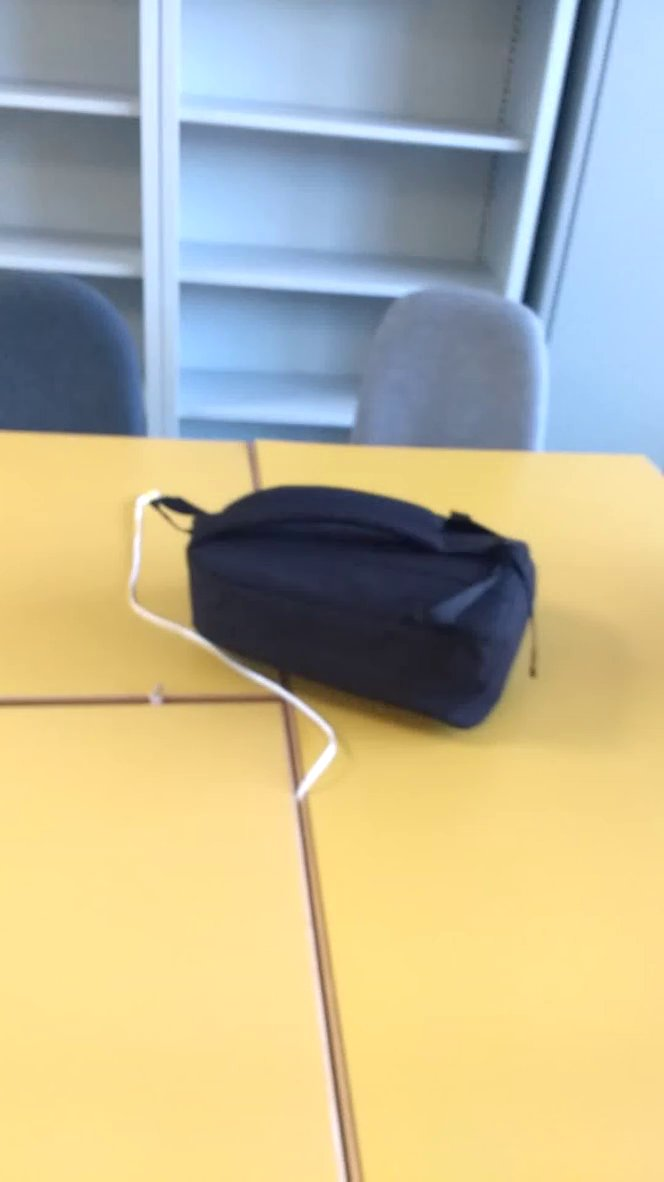bag: (149, 474, 560, 740)
chair: (347, 272, 559, 476)
